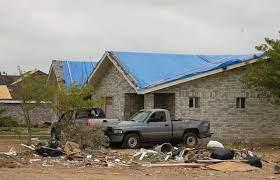major: (49, 43, 280, 146)
